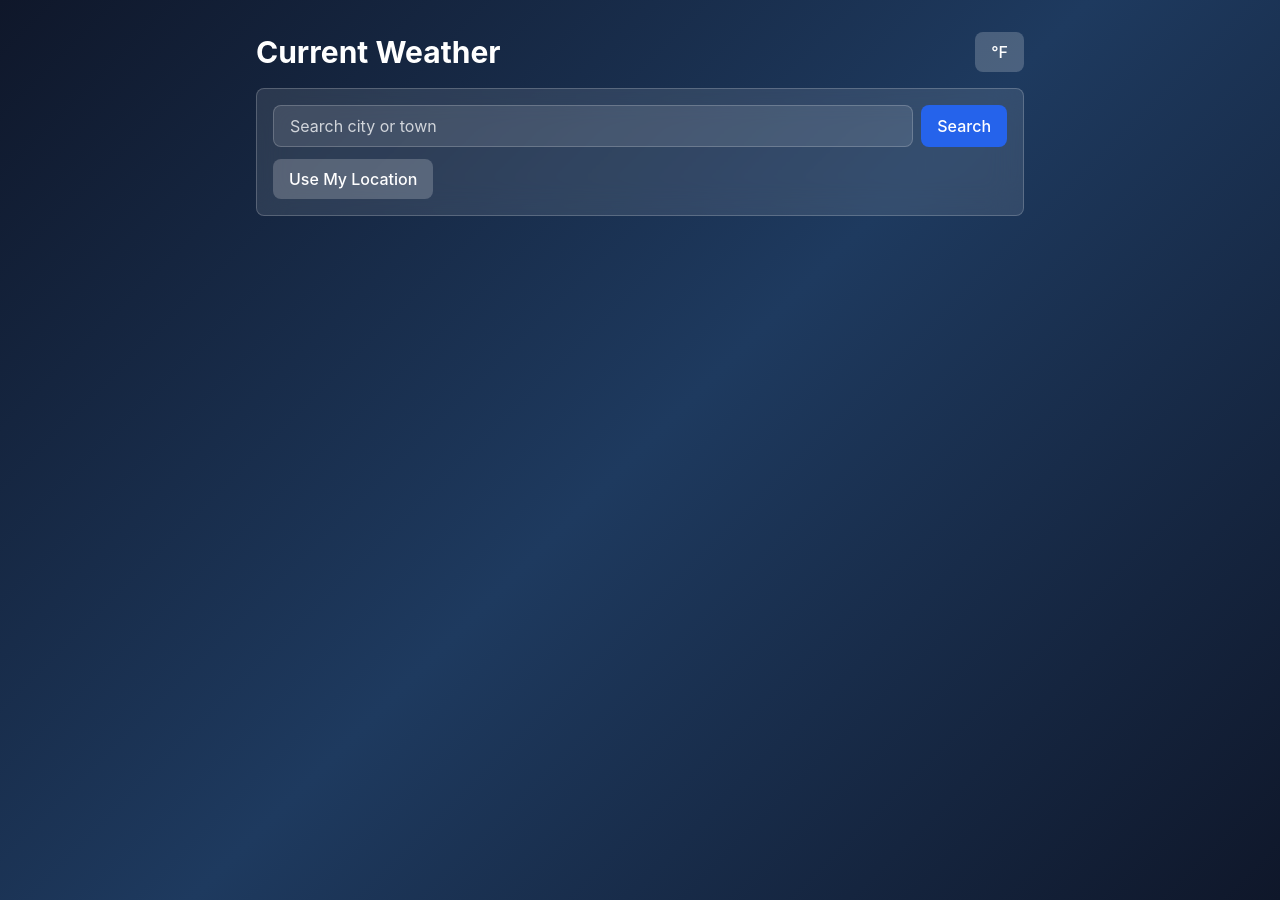
it: App integration › handles malformed weather payload as service unavailable
The image size is (1280, 900).
Type "Los Angeles" into the field named "location search" at (593, 126), box [273, 105, 913, 147]
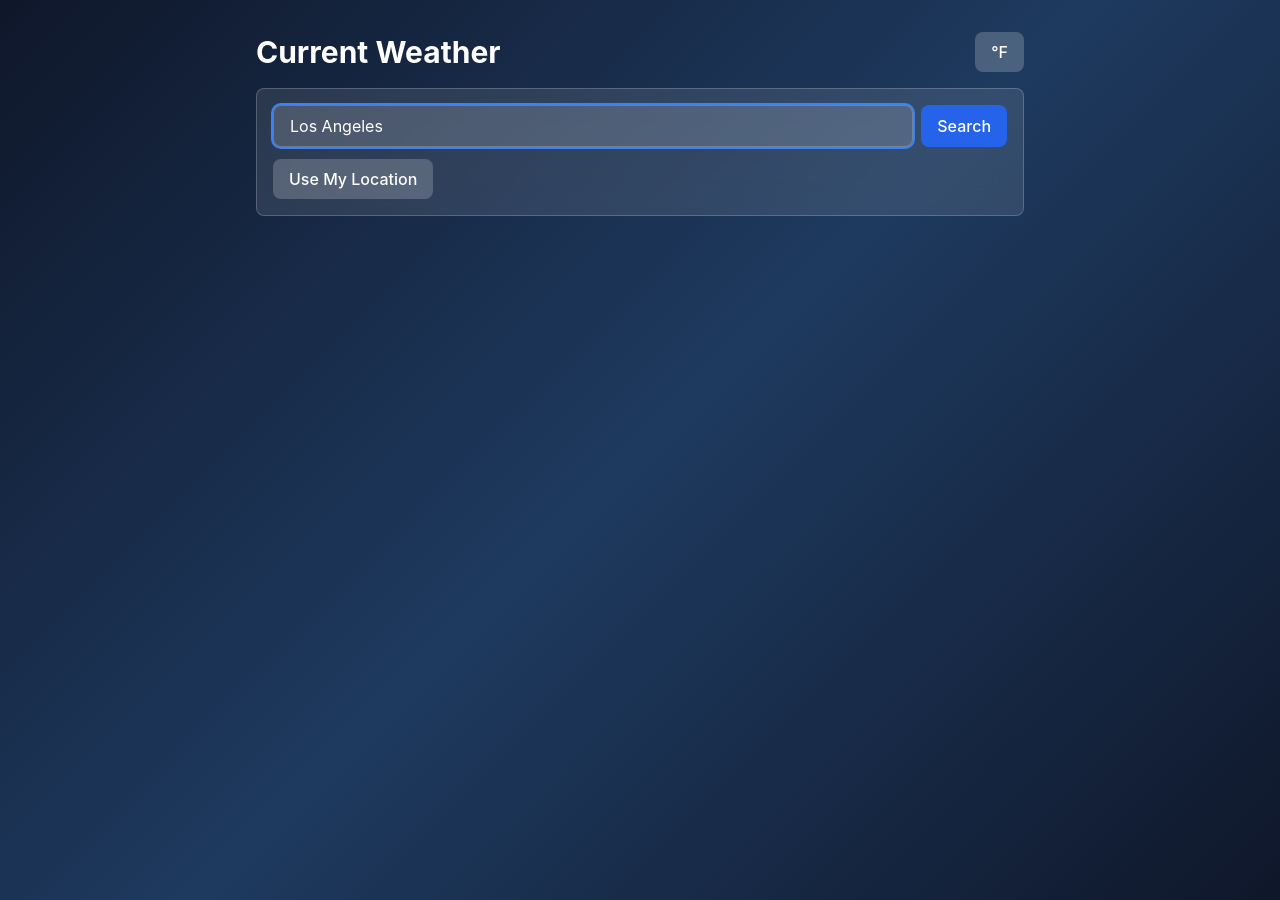
Click the button "Search" at (964, 126), box [921, 105, 1007, 147]
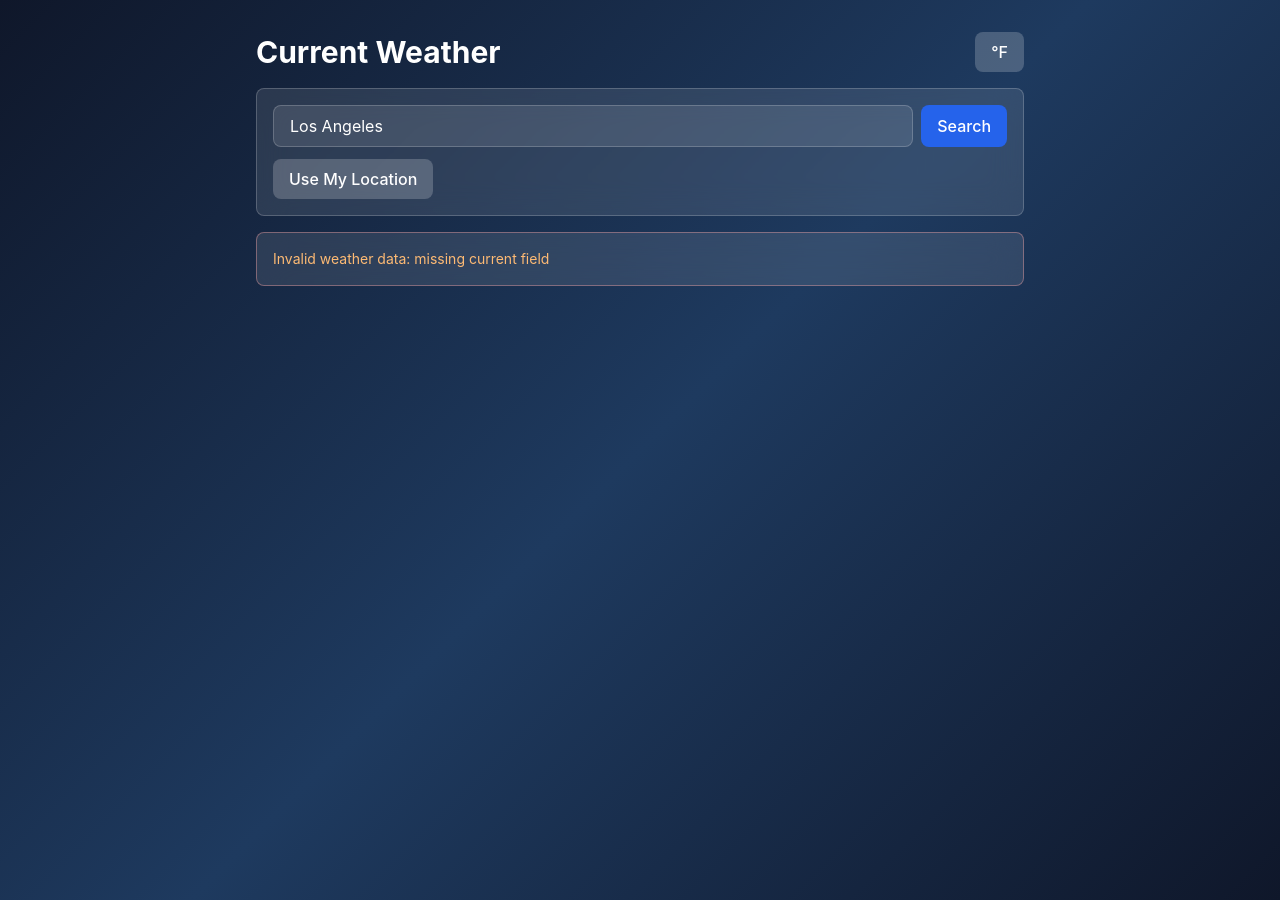
Result: the message shows "Invalid weather data" at [273, 250, 549, 267]
